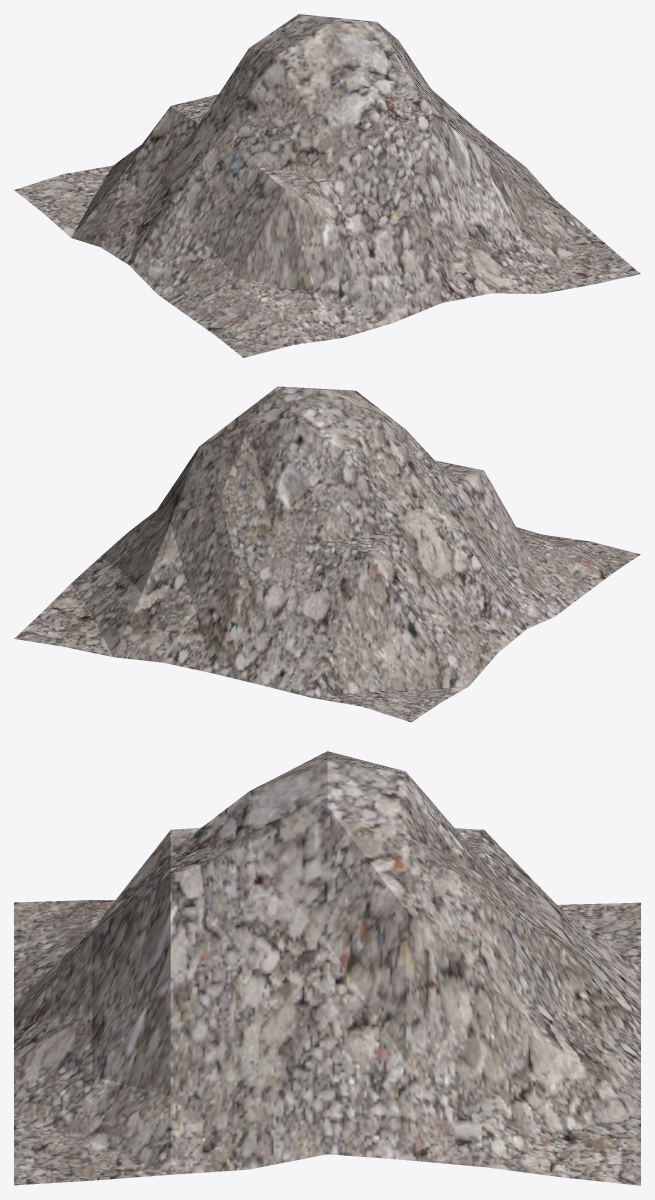
The model's file is debris_3.fbx.
3 renders of one model, top to bottom at view 1: azimuth 30°, elevation 25°; view 2: azimuth 150°, elevation 25°; view 3: azimuth 270°, elevation 25°, orthographic. The views are drawn at different scales.
Visible parts, largest first — view 1: debris_3; view 2: debris_3; view 3: debris_3.
Boxes of the visible parts, box(x1,y1,x2,y2) form: debris_3: box(14, 14, 640, 357); debris_3: box(14, 386, 640, 722); debris_3: box(14, 751, 640, 1185).
Bounding box in the file's own units: 100 × 51.33 × 100.
